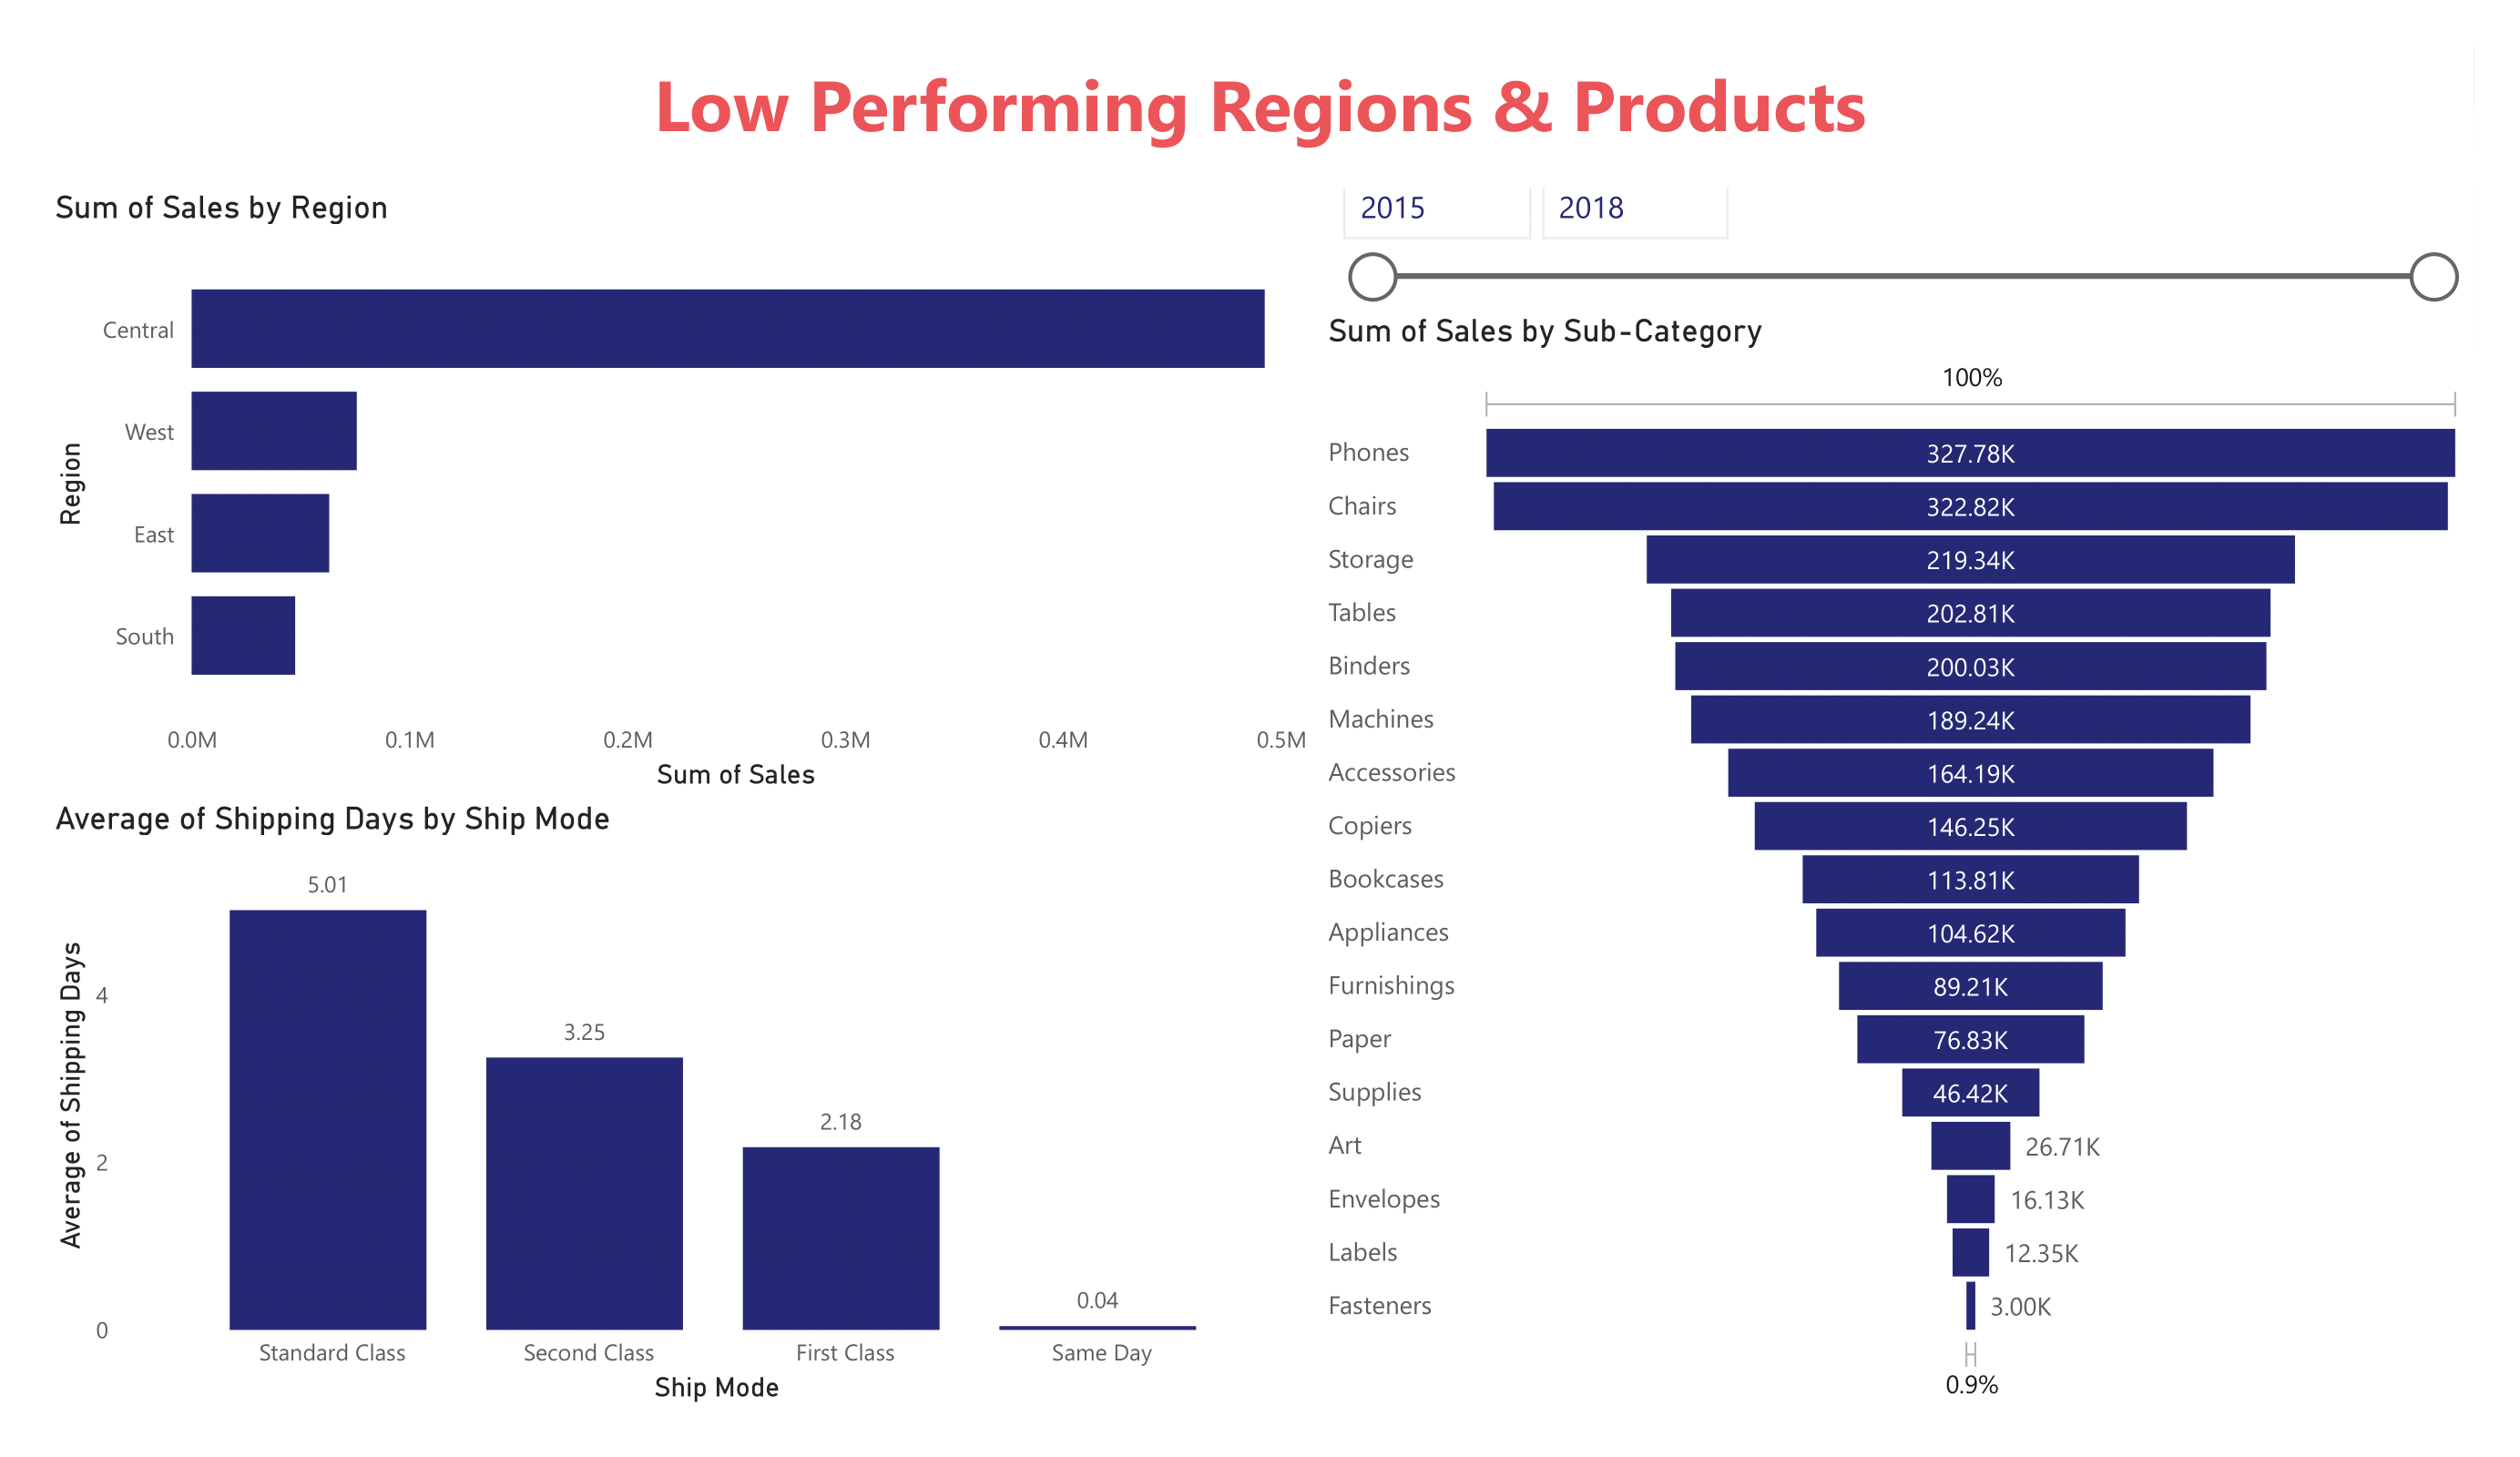

Layout of this report page (visuals, bound fields, positions):
{"tool":"powerbi","page":{"name":"Underperforming Areas","canvas":[1280,720],"ordinal":2},"visuals":[{"type":"slicer","title":"Year","fields":{"Values":["sales_data.Order Date.Variation.Date Hierarchy.Year"]},"box":[670.7,56.8,609.5,83.7],"z":0},{"type":"textbox","box":[0,0,1280,75.1],"z":1000},{"type":"funnel","fields":{"Y":["Sum(sales_data.Sales)"],"Category":["sales_data.Sub-Category"]},"box":[670.7,140.4,609.5,579.6],"z":2000},{"type":"clusteredBarChart","fields":{"Category":["sales_data.Region"],"Y":["Sum(sales_data.Sales)"]},"box":[0,75.1,670.4,321.8],"z":3000},{"type":"columnChart","fields":{"Category":["sales_data.Ship Mode"],"Y":["Avg(sales_data.Shipping Days)"]},"box":[0,396.9,670.4,323.6],"z":4000}]}

Visuals, with their boxes on the page's 1280x720 design canvas (x1, y1, x2, y2). These are canvas units, not pixel positions in the 2520x1457 screenshot, which may show the page scaled, cropped or inside an application window:
"Year" slicer: crop(671, 57, 1280, 140)
textbox: crop(0, 0, 1280, 75)
funnel - Sum(sales_data.Sales) x sales_data.Sub-Category: crop(671, 140, 1280, 720)
clusteredBarChart - sales_data.Region x Sum(sales_data.Sales): crop(0, 75, 670, 397)
columnChart - sales_data.Ship Mode x Avg(sales_data.Shipping Days): crop(0, 397, 670, 720)
